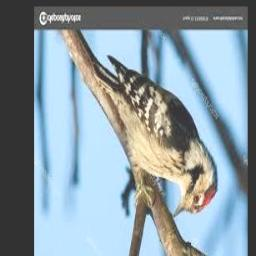Woodpecker: (93, 55, 218, 218)
